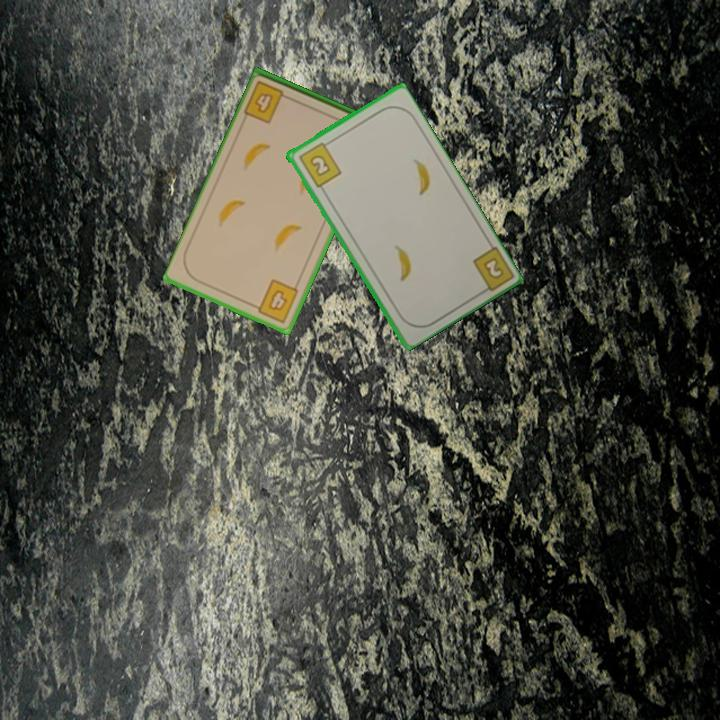2b: (295, 137, 344, 190), (469, 242, 515, 298)
4b: (249, 275, 302, 326), (241, 77, 295, 126)
